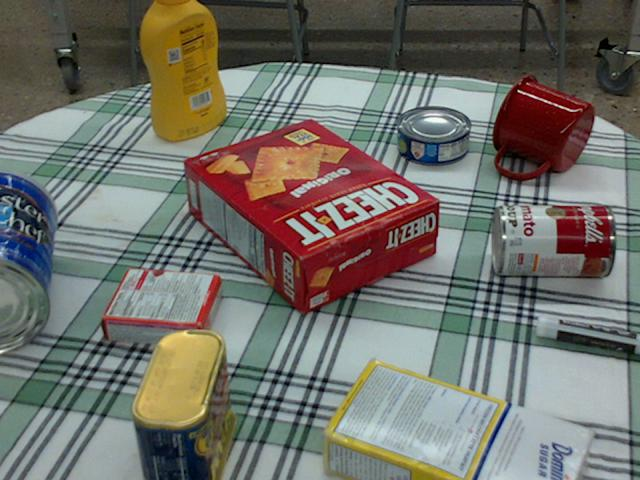cracker_box: (182, 117, 436, 312)
gelatin_box: (102, 265, 221, 348)
large_marker: (537, 314, 639, 355)
master_chef_can: (0, 168, 53, 352)
mug: (491, 75, 593, 179)
mustard_bottle: (140, 0, 225, 140)
potted_meat_can: (129, 327, 234, 479)
sugar_box: (316, 362, 593, 479)
tomato_soup_can: (491, 203, 614, 276)
tuna_fish_can: (397, 106, 471, 164)
